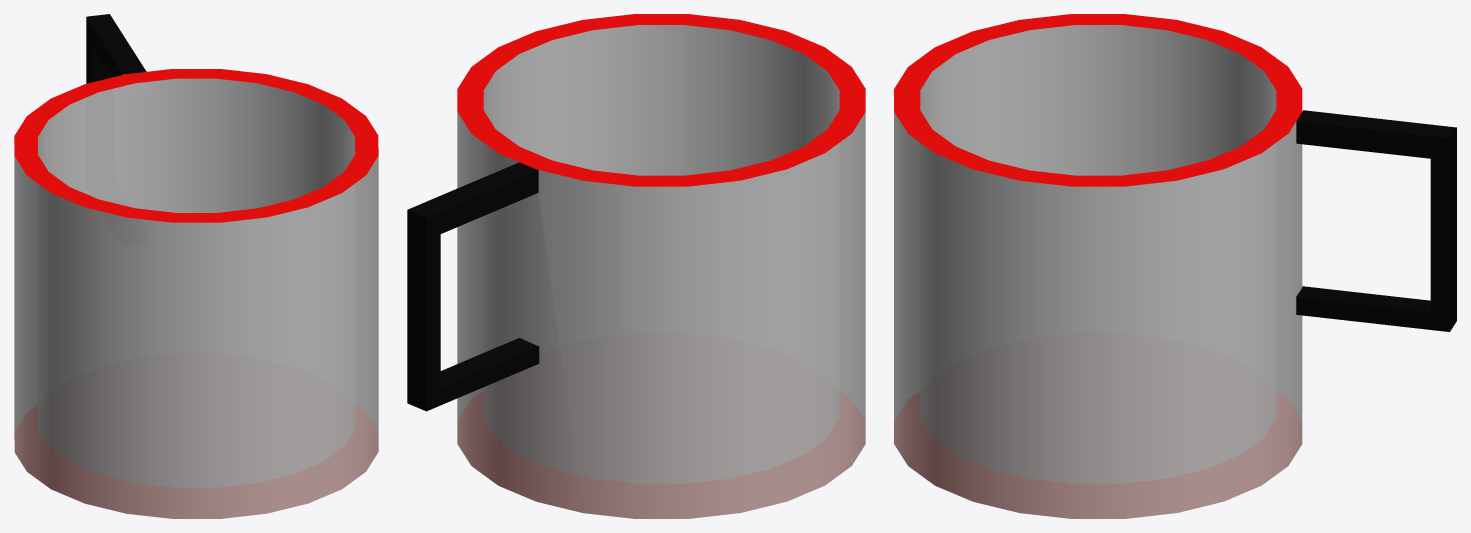
3 renders of one model, left to right at view 1: azimuth 30°, elevation 25°; view 2: azimuth 150°, elevation 25°; view 3: azimuth 270°, elevation 25°, orthographic. The views are drawn at different scales.
Parts seen in each view (by area): view 1: mesh1_mesh1-geometry_2, mesh1_mesh1-geometry_1, mesh1_mesh1-geometry; view 2: mesh1_mesh1-geometry_2, mesh1_mesh1-geometry, mesh1_mesh1-geometry_1; view 3: mesh1_mesh1-geometry_2, mesh1_mesh1-geometry, mesh1_mesh1-geometry_1.
Part boxes in pixels (x1,y1,x2,y2): mesh1_mesh1-geometry_2: (14, 78, 378, 518); mesh1_mesh1-geometry_1: (14, 69, 378, 222); mesh1_mesh1-geometry: (86, 14, 146, 83); mesh1_mesh1-geometry_2: (457, 25, 865, 518); mesh1_mesh1-geometry: (407, 162, 539, 411); mesh1_mesh1-geometry_1: (457, 14, 865, 186); mesh1_mesh1-geometry_2: (894, 25, 1302, 518); mesh1_mesh1-geometry: (1296, 110, 1456, 331); mesh1_mesh1-geometry_1: (894, 14, 1302, 186).
Bounding box in the file's own units: 0.491 × 0.4408 × 0.6767.
